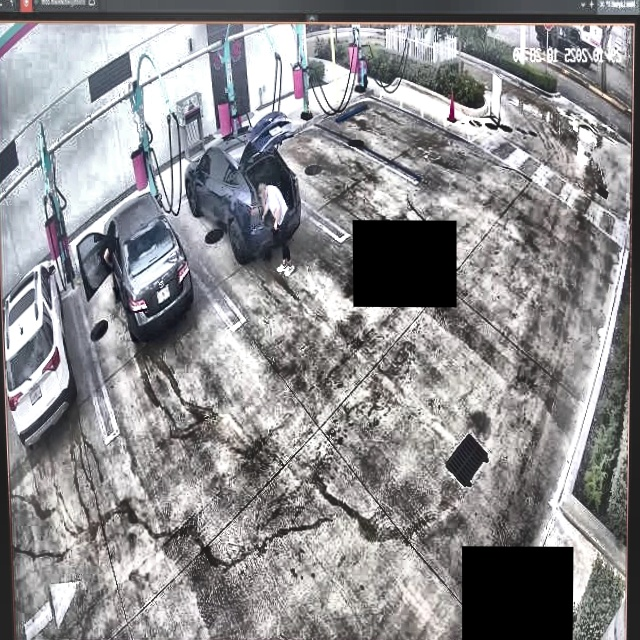Car: (183, 110, 300, 267), (76, 194, 194, 332)
